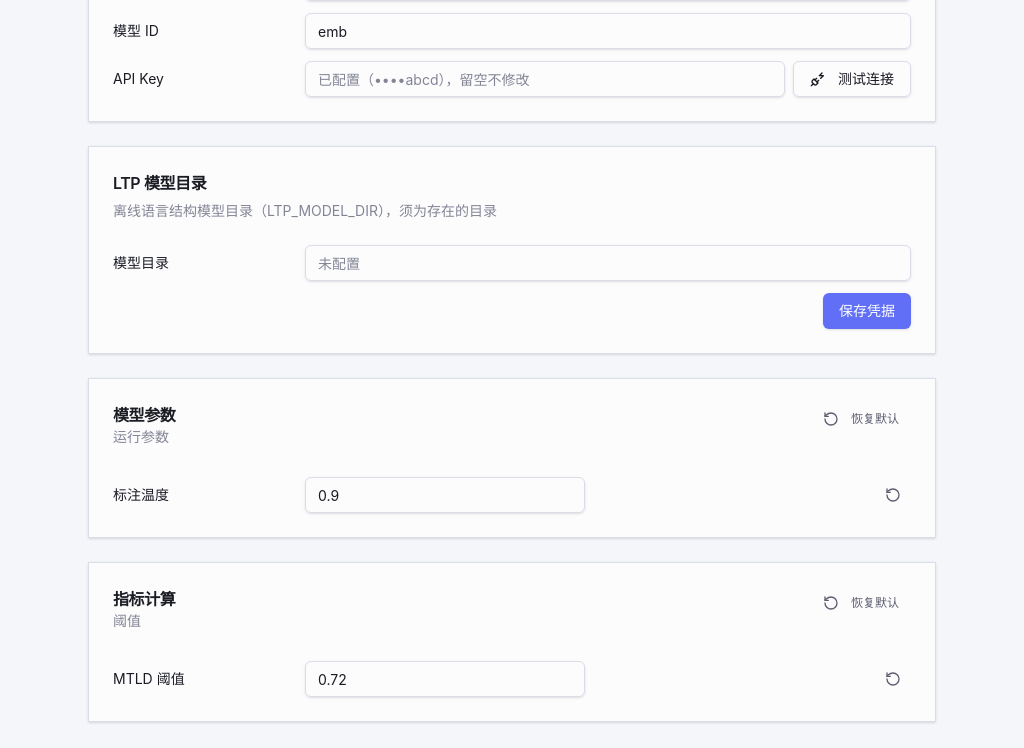
it: SettingsPage › 放弃修改清空草稿并回到服务端值
The image size is (1024, 748).
(page scrolled)
Replace the text in the number field showing "0.9" next to "标注温度" with "1.2" at (445, 495), box [305,477,585,513]
(page scrolled)
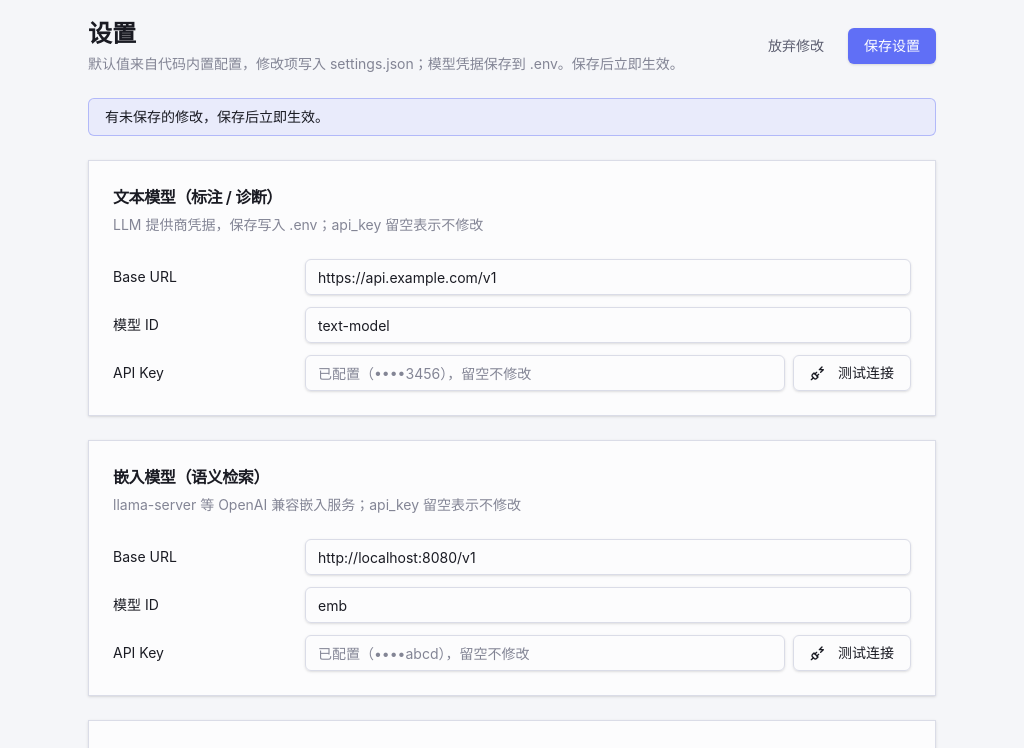
Expected: the button "保存设置" is enabled, [848,28,936,64]
Click the button "放弃修改" at (796, 46), box [752,28,840,64]
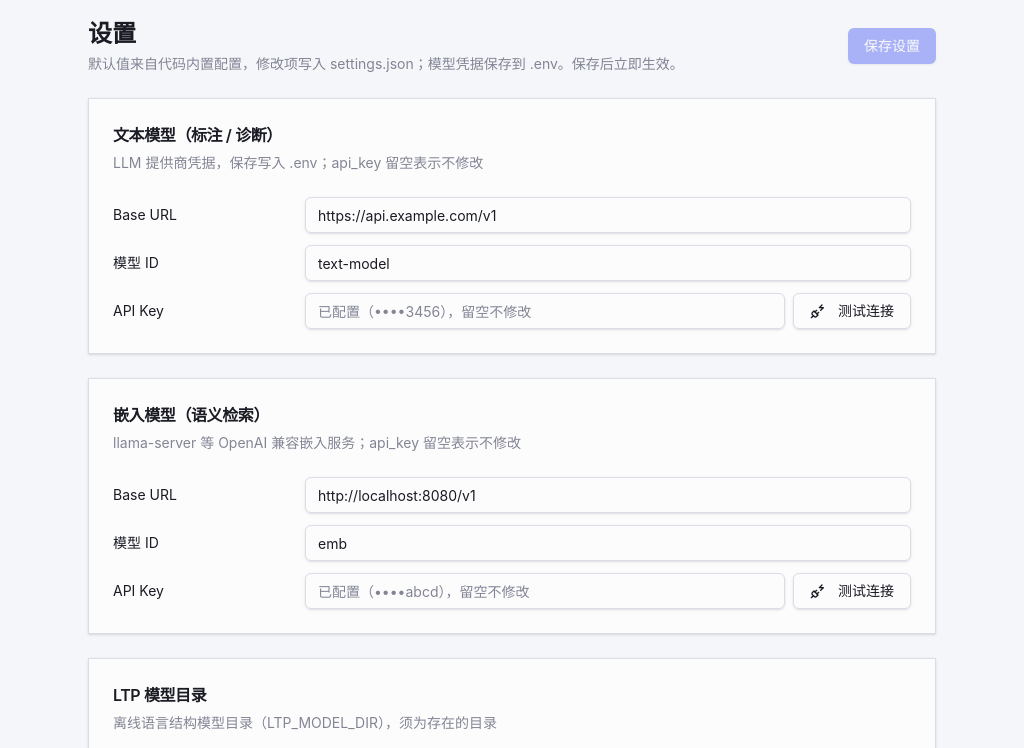
Expected: the button "保存设置" is disabled, [848,28,936,64]
